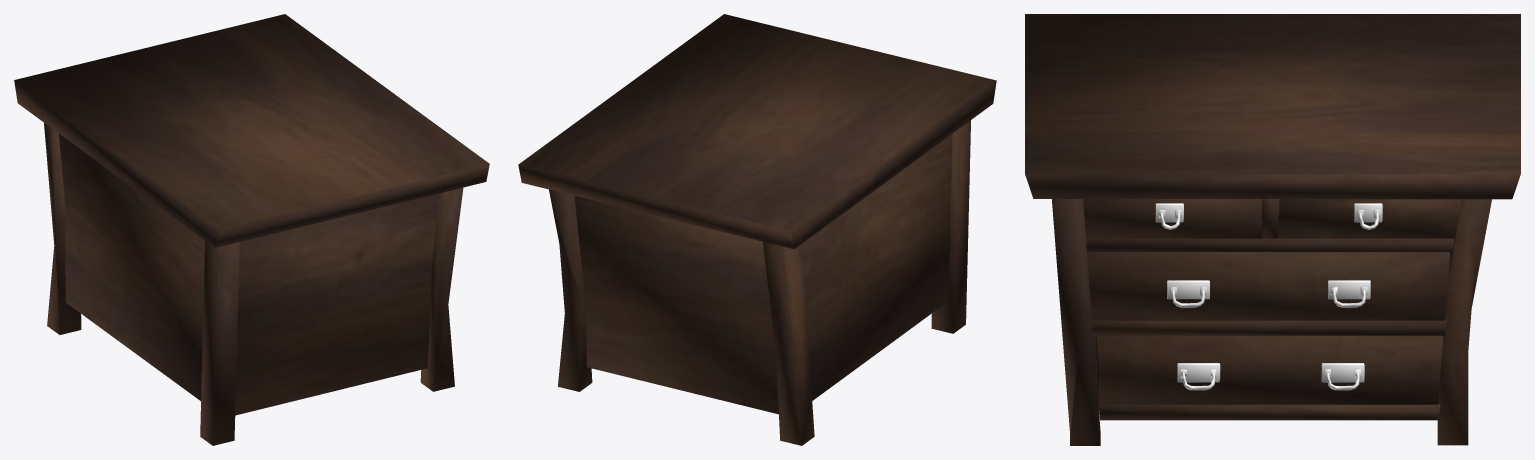
File: dresser.lod1.glb
3 views of the same model, side by side, from view 1: azimuth 30°, elevation 25°; view 2: azimuth 150°, elevation 25°; view 3: azimuth 270°, elevation 25° (orthographic). The views are drawn at different scales.
Parts seen in each view (by area): view 1: Dresser.001; view 2: Dresser.001; view 3: Dresser.001.
Part boxes in pixels (x1=…): Dresser.001: x1=14, y1=14, x2=489, y2=445; Dresser.001: x1=518, y1=14, x2=996, y2=445; Dresser.001: x1=1025, y1=14, x2=1520, y2=445.
Bounding box in the file's own units: 0.6446 × 0.5279 × 0.8432.
Materials: 2 (1 with a texture image).
